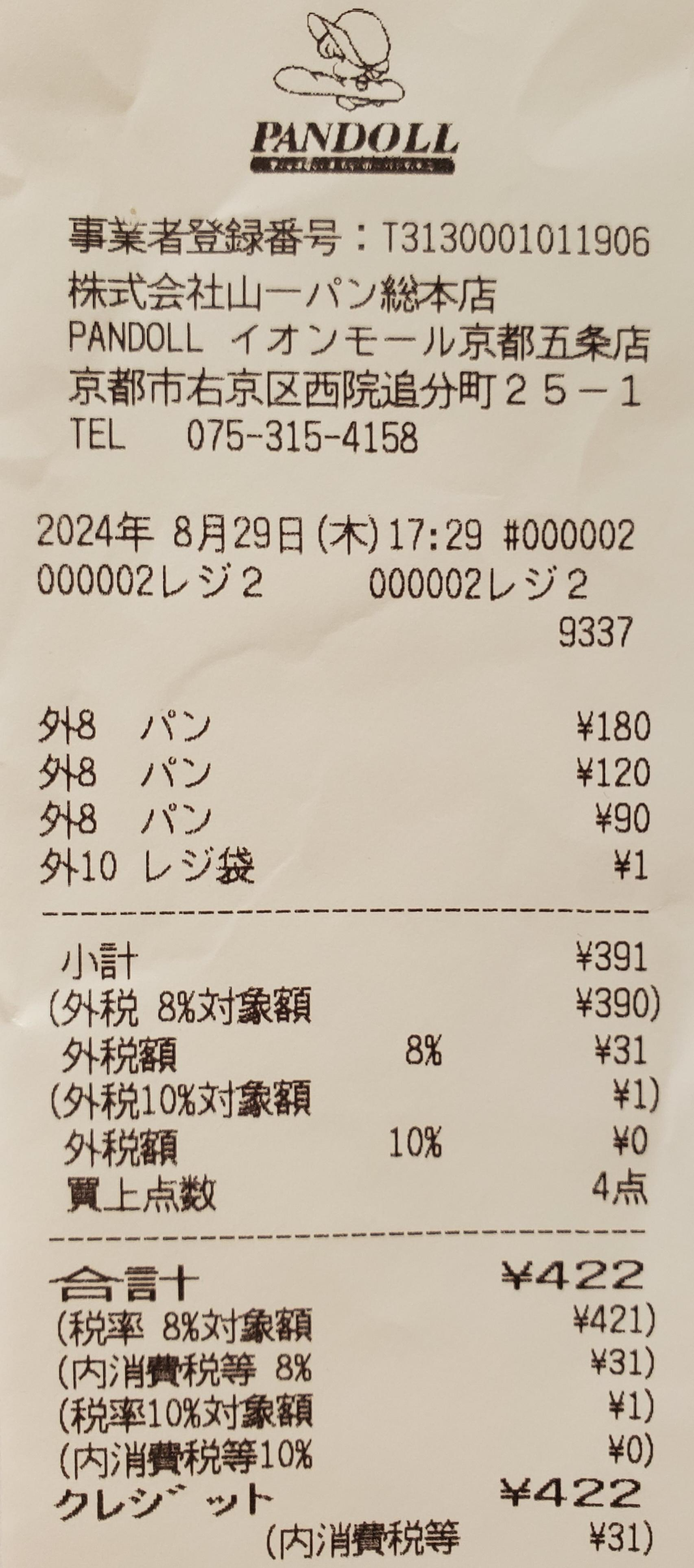TEL: (179, 411, 443, 464)
date: (16, 502, 308, 553)
total: (537, 1249, 652, 1297)
